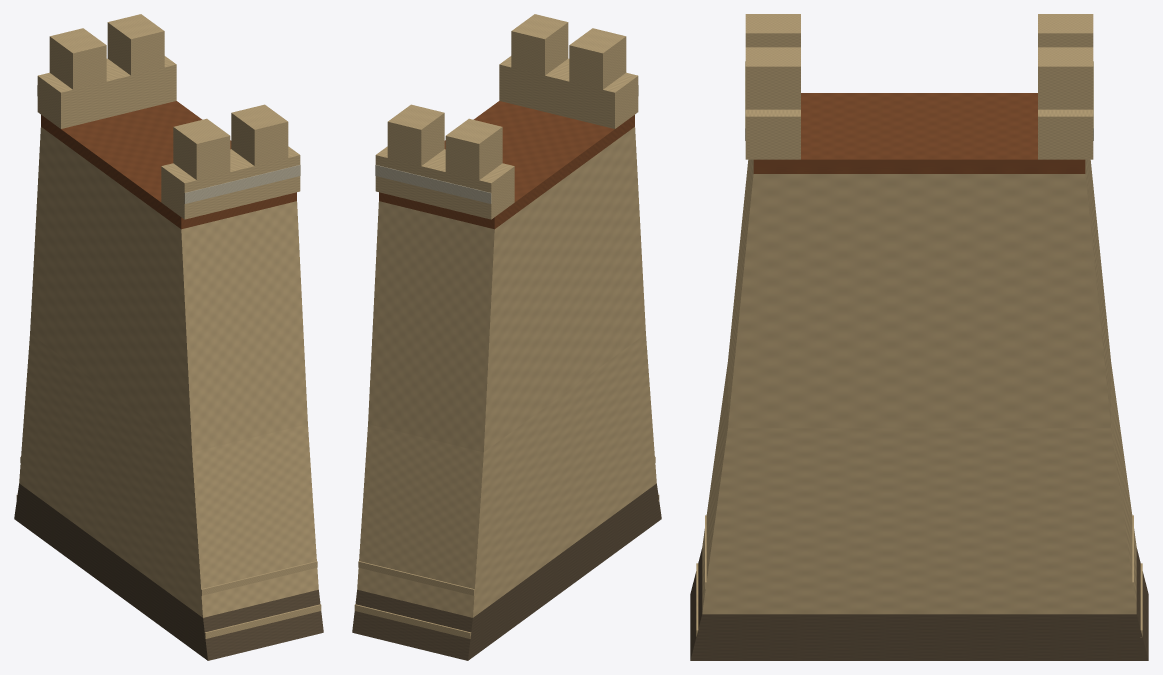
File: Berber_Wall_Age3_gap_2m.fbx
3 views of the same model, side by side, from view 1: azimuth 30°, elevation 25°; view 2: azimuth 150°, elevation 25°; view 3: azimuth 270°, elevation 25° (orthographic). The views are drawn at different scales.
Parts seen in each view (by area): view 1: gap_2m_rammed_curtain_upper, gap_2m_rammed_curtain_lower, gap_2m_battered_stone_foot, gap_2m_walk_deck, gap_2m_parapet.001, gap_2m_parapet, gap_2m_merlon.002, gap_2m_merlon, gap_2m_merlon.001, gap_2m_merlon.003, gap_2m_owner_painted_band, gap_2m_lime_bond_course (+3 smaller); view 2: gap_2m_rammed_curtain_upper, gap_2m_rammed_curtain_lower, gap_2m_battered_stone_foot, gap_2m_walk_deck, gap_2m_parapet, gap_2m_parapet.001, gap_2m_merlon, gap_2m_merlon.001, gap_2m_merlon.003, gap_2m_merlon.002, gap_2m_owner_painted_band.001, gap_2m_lime_bond_course.001 (+1 smaller); view 3: gap_2m_rammed_curtain_upper, gap_2m_rammed_curtain_lower, gap_2m_battered_stone_foot, gap_2m_walk_deck, gap_2m_merlon.003, gap_2m_merlon.001, gap_2m_parapet, gap_2m_parapet.001, gap_2m_merlon.002, gap_2m_merlon.
Part boxes in pixels (left/top/right/bottom): gap_2m_rammed_curtain_upper: left=30, top=127, right=307, bottom=452; gap_2m_rammed_curtain_lower: left=19, top=334, right=318, bottom=617; gap_2m_battered_stone_foot: left=14, top=483, right=323, bottom=660; gap_2m_walk_deck: left=41, top=101, right=296, bottom=229; gap_2m_parapet.001: left=37, top=56, right=176, bottom=128; gap_2m_parapet: left=161, top=146, right=300, bottom=219; gap_2m_merlon.002: left=49, top=28, right=106, bottom=89; gap_2m_merlon: left=173, top=119, right=230, bottom=180; gap_2m_merlon.001: left=231, top=105, right=288, bottom=165; gap_2m_merlon.003: left=107, top=14, right=164, bottom=75; gap_2m_owner_painted_band: left=184, top=164, right=300, bottom=203; gap_2m_lime_bond_course: left=204, top=604, right=321, bottom=638; gap_2m_rammed_curtain_upper: left=368, top=127, right=645, bottom=452; gap_2m_rammed_curtain_lower: left=357, top=334, right=656, bottom=617; gap_2m_battered_stone_foot: left=352, top=483, right=661, bottom=660; gap_2m_walk_deck: left=379, top=101, right=634, bottom=229; gap_2m_parapet: left=499, top=56, right=638, bottom=128; gap_2m_parapet.001: left=375, top=146, right=514, bottom=219; gap_2m_merlon: left=569, top=28, right=626, bottom=89; gap_2m_merlon.001: left=511, top=14, right=568, bottom=75; gap_2m_merlon.003: left=387, top=104, right=444, bottom=165; gap_2m_merlon.002: left=445, top=118, right=502, bottom=180; gap_2m_owner_painted_band.001: left=375, top=164, right=491, bottom=203; gap_2m_lime_bond_course.001: left=354, top=604, right=471, bottom=638; gap_2m_rammed_curtain_upper: left=728, top=159, right=1110, bottom=428; gap_2m_rammed_curtain_lower: left=702, top=362, right=1136, bottom=614; gap_2m_battered_stone_foot: left=690, top=548, right=1148, bottom=660; gap_2m_walk_deck: left=753, top=93, right=1085, bottom=173; gap_2m_merlon.003: left=1038, top=47, right=1093, bottom=109; gap_2m_merlon.001: left=745, top=47, right=800, bottom=109; gap_2m_parapet: left=745, top=109, right=800, bottom=159; gap_2m_parapet.001: left=1038, top=109, right=1093, bottom=159; gap_2m_merlon.002: left=1038, top=14, right=1093, bottom=47; gap_2m_merlon: left=745, top=14, right=800, bottom=47.
Size of the model in its own units: 200 by 820 by 580.
Materials: 4 (4 with a texture image).
